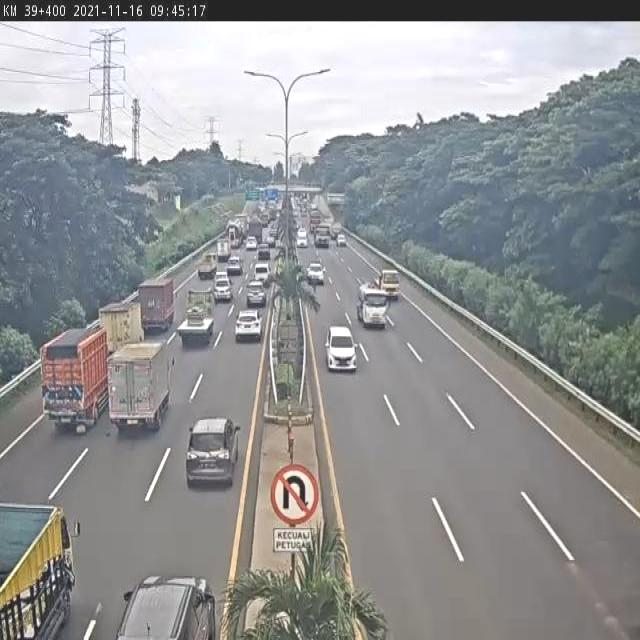Car: (112, 574, 218, 640), (184, 415, 240, 486), (324, 326, 358, 374), (234, 308, 264, 342), (378, 268, 400, 299), (213, 273, 233, 302), (246, 280, 267, 307), (306, 261, 326, 285), (253, 261, 270, 284), (226, 256, 242, 276), (257, 242, 271, 260), (245, 236, 258, 251), (266, 232, 276, 248), (296, 235, 308, 248), (336, 233, 346, 247)
Truck: (0, 498, 81, 640), (37, 328, 109, 428), (106, 342, 172, 425), (98, 304, 142, 349), (177, 290, 215, 341), (140, 278, 174, 330), (357, 284, 389, 328), (198, 253, 217, 277), (313, 226, 330, 248), (216, 238, 232, 258)
